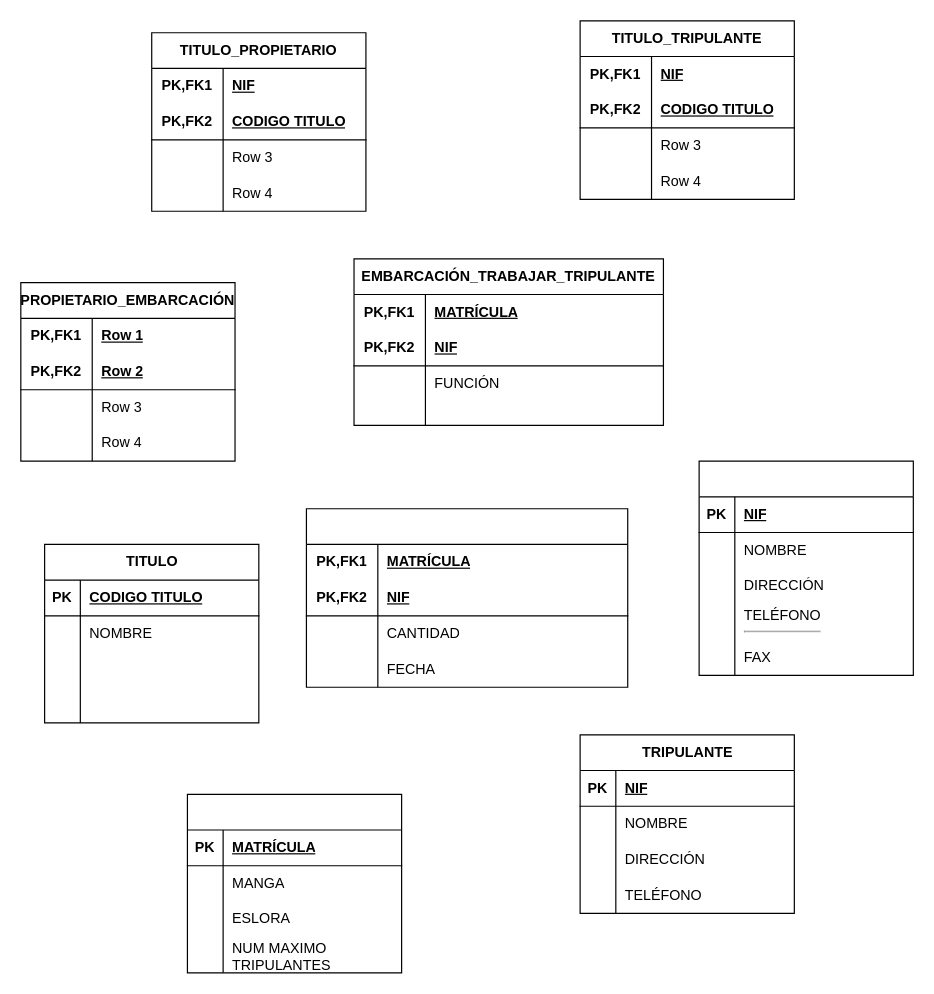
The diagram is 934 pixels wide and 994 high, and some of its shapes have lost their labels. The box of each missing label's shape, as (x1, y1, x2, y2) in pixels:
EMBARCACION_SALIDAS_TRIPULANTE: (305, 508, 628, 687)
EMBARCACIÓN: (186, 793, 402, 973)
PROPIETARIO: (698, 460, 913, 675)
